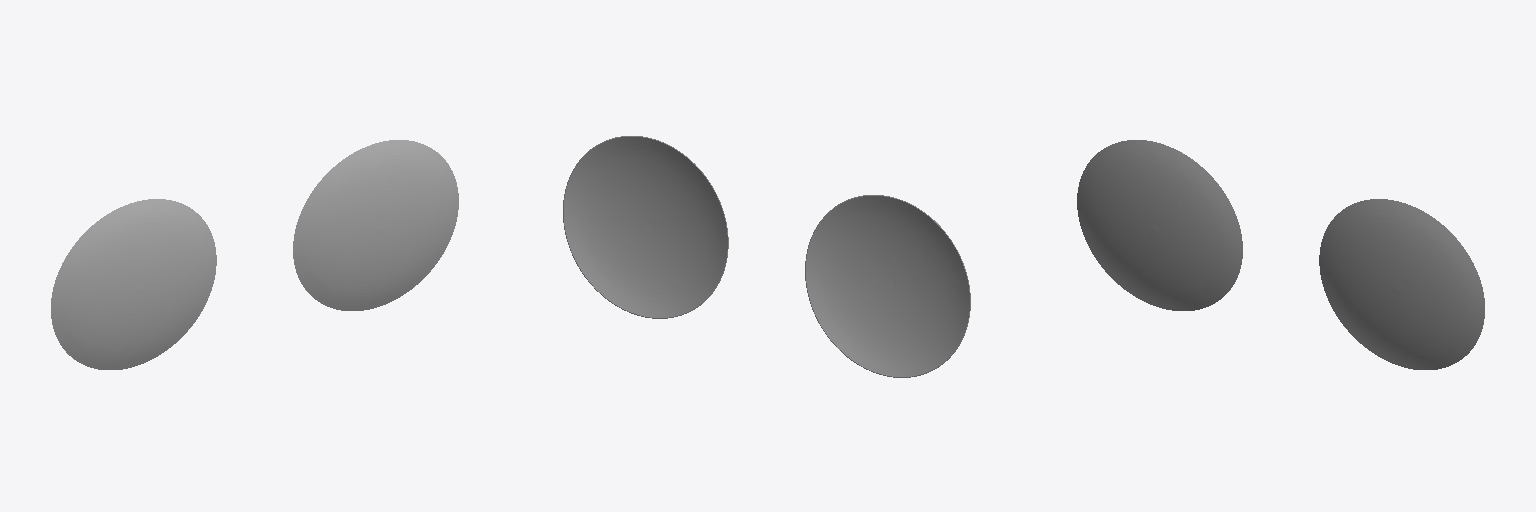
File: hp_glass.obj
The picture shows the model from 3 angles: view 1: azimuth 30°, elevation 25°; view 2: azimuth 150°, elevation 25°; view 3: azimuth 330°, elevation 25°; orthographic projection.
Visible parts, largest first — view 1: glass; view 2: glass; view 3: glass.
Part boxes in pixels (x1,y1,x2,y2): glass: (51, 140, 458, 369); glass: (563, 136, 970, 377); glass: (1077, 140, 1484, 369).
Size of the model in its own units: 0.1314 by 0.0532 by 0.0059.